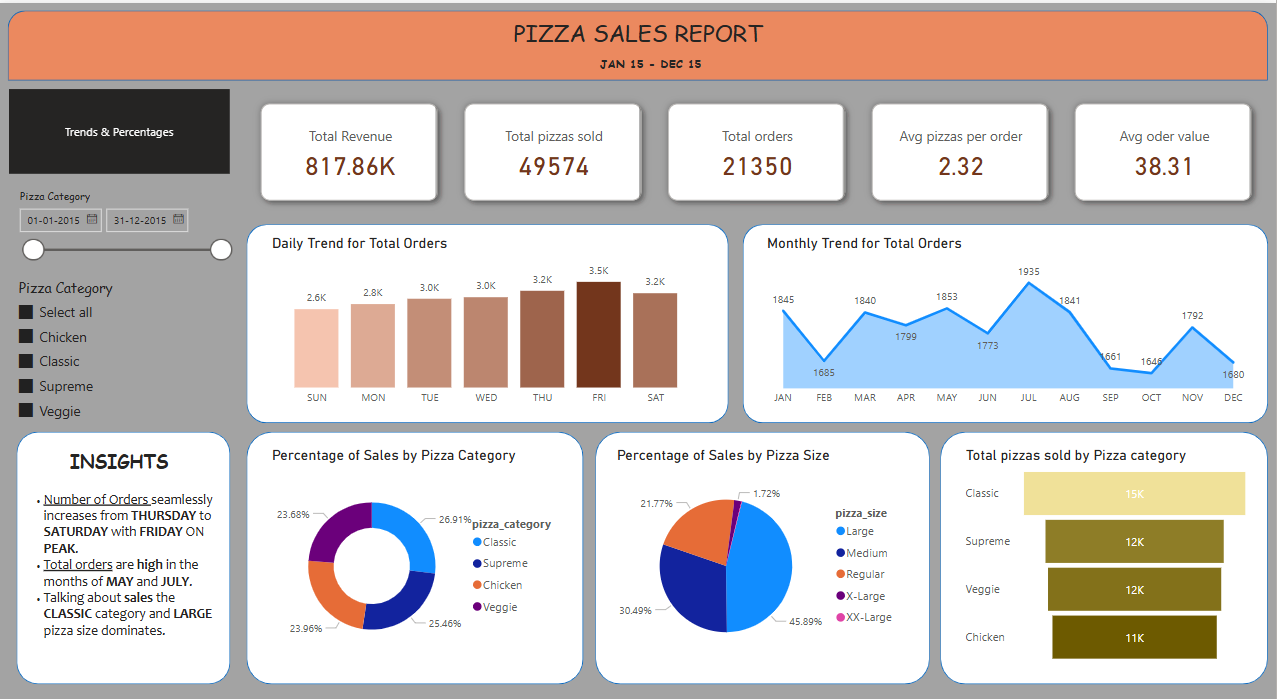

The page's visual inventory and layout, read from the dashboard file:
{"tool":"powerbi","page":{"name":"Trends & Percentages","canvas":[1500,820],"ordinal":0},"visuals":[{"type":"cardVisual","fields":{"Data":["pizza_sales.Total Revenue","pizza_sales.Total pizzas sold","pizza_sales.Total orders","pizza_sales.Avg pizzas per order","pizza_sales.Avg oder value"]},"box":[291.3,101.7,1199.5,148.4],"z":0},{"type":"shape","box":[11,8.2,1479.8,82.4],"z":1000},{"type":"textbox","box":[591.9,11.1,317.5,54.3],"z":2000},{"type":"textbox","box":[687,57.7,156.6,33],"z":3000},{"type":"shape","box":[291.3,259.7,566.1,233.6],"z":4000},{"type":"columnChart","title":"Daily Trend for Total Orders","fields":{"Category":["pizza_sales.Order day"],"Y":["pizza_sales.Total orders"]},"box":[316,272.1,513.9,210.2],"z":5000},{"type":"shape","box":[873.9,259.7,616.9,233.6],"z":6000},{"type":"areaChart","title":"Monthly Trend for Total Orders","fields":{"Category":["pizza_sales.Order Month"],"Y":["pizza_sales.Total orders"]},"box":[897.2,272.1,577.1,210.2],"z":7000},{"type":"shape","box":[700.7,502.9,393,296.8],"z":8000},{"type":"shape","box":[1106.1,502.9,384.7,296.8],"z":9000},{"type":"shape","box":[291.3,502.9,395.7,296.8],"z":10000},{"type":"donutChart","title":"Percentage of Sales by Pizza Category","fields":{"Y":["pizza_sales.Total Revenue"],"Category":["pizza_sales.pizza_category"]},"box":[315.6,521.1,353.8,261.3],"z":11000},{"type":"pieChart","title":"Percentage of Sales by Pizza Size","fields":{"Y":["pizza_sales.Total Revenue"],"Category":["pizza_sales.pizza_size"]},"box":[721.4,520.7,346.2,261.1],"z":12000},{"type":"funnel","title":"Total pizzas sold by Pizza category","fields":{"Category":["pizza_sales.pizza_category"],"Y":["pizza_sales.Total pizzas sold"]},"box":[1130.8,520.7,343.5,259.7],"z":13000},{"type":"slicer","fields":{"Values":["pizza_sales.pizza_category"]},"box":[10.3,318.6,270.1,185],"z":14000},{"type":"slicer","fields":{"Values":["pizza_sales.order_date"]},"box":[11.7,212.9,270.1,95.4],"z":15000},{"type":"shape","box":[20.6,503.5,251,296.5],"z":16000},{"type":"pageNavigator","box":[11.7,101.3,259.8,99.8],"z":17000},{"type":"textbox","box":[71.4,518,138.8,50.8],"z":18000},{"type":"textbox","box":[28.9,568.8,237.7,189.6],"z":19000}]}

Visuals, with their boxes in screenshot pixels (x1, y1, x2, y2), scaled from the page's 1500x820 canvas onto the 1277x699 screenshot:
cardVisual - pizza_sales.Total Revenue x pizza_sales.Total pizzas sold: (248,87,1269,213)
shape: (9,7,1269,77)
textbox: (504,9,774,56)
textbox: (585,49,718,77)
shape: (248,221,730,421)
"Daily Trend for Total Orders" columnChart: (269,232,707,411)
shape: (744,221,1269,421)
"Monthly Trend for Total Orders" areaChart: (764,232,1255,411)
shape: (597,429,931,682)
shape: (942,429,1269,682)
shape: (248,429,585,682)
"Percentage of Sales by Pizza Category" donutChart: (269,444,570,667)
"Percentage of Sales by Pizza Size" pieChart: (614,444,909,666)
"Total pizzas sold by Pizza category" funnel: (963,444,1255,665)
slicer - pizza_sales.pizza_category: (9,272,239,429)
slicer - pizza_sales.order_date: (10,181,240,263)
shape: (18,429,231,682)
pageNavigator: (10,86,231,171)
textbox: (61,442,179,485)
textbox: (25,485,227,646)
